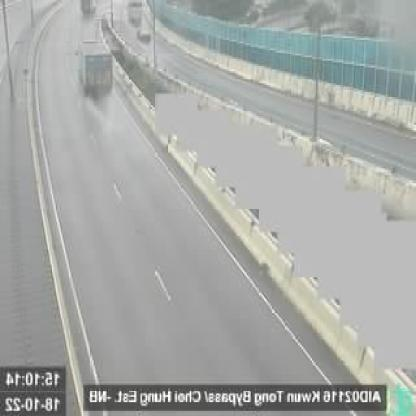Truck: (75, 37, 112, 100)
